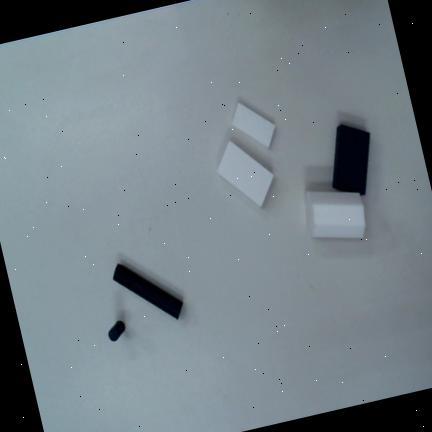Cilindro: (113, 263, 184, 321), (108, 320, 125, 342)
Paralelepipedo: (217, 140, 274, 207), (332, 125, 370, 195), (232, 102, 276, 148)
Prisma_hexagonal: (305, 192, 366, 239)
